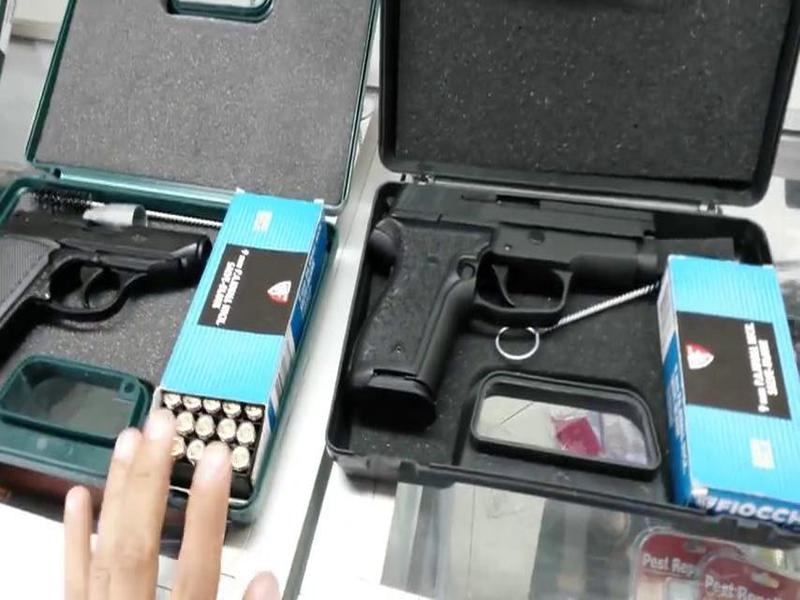Pistola: (356, 168, 683, 434)
